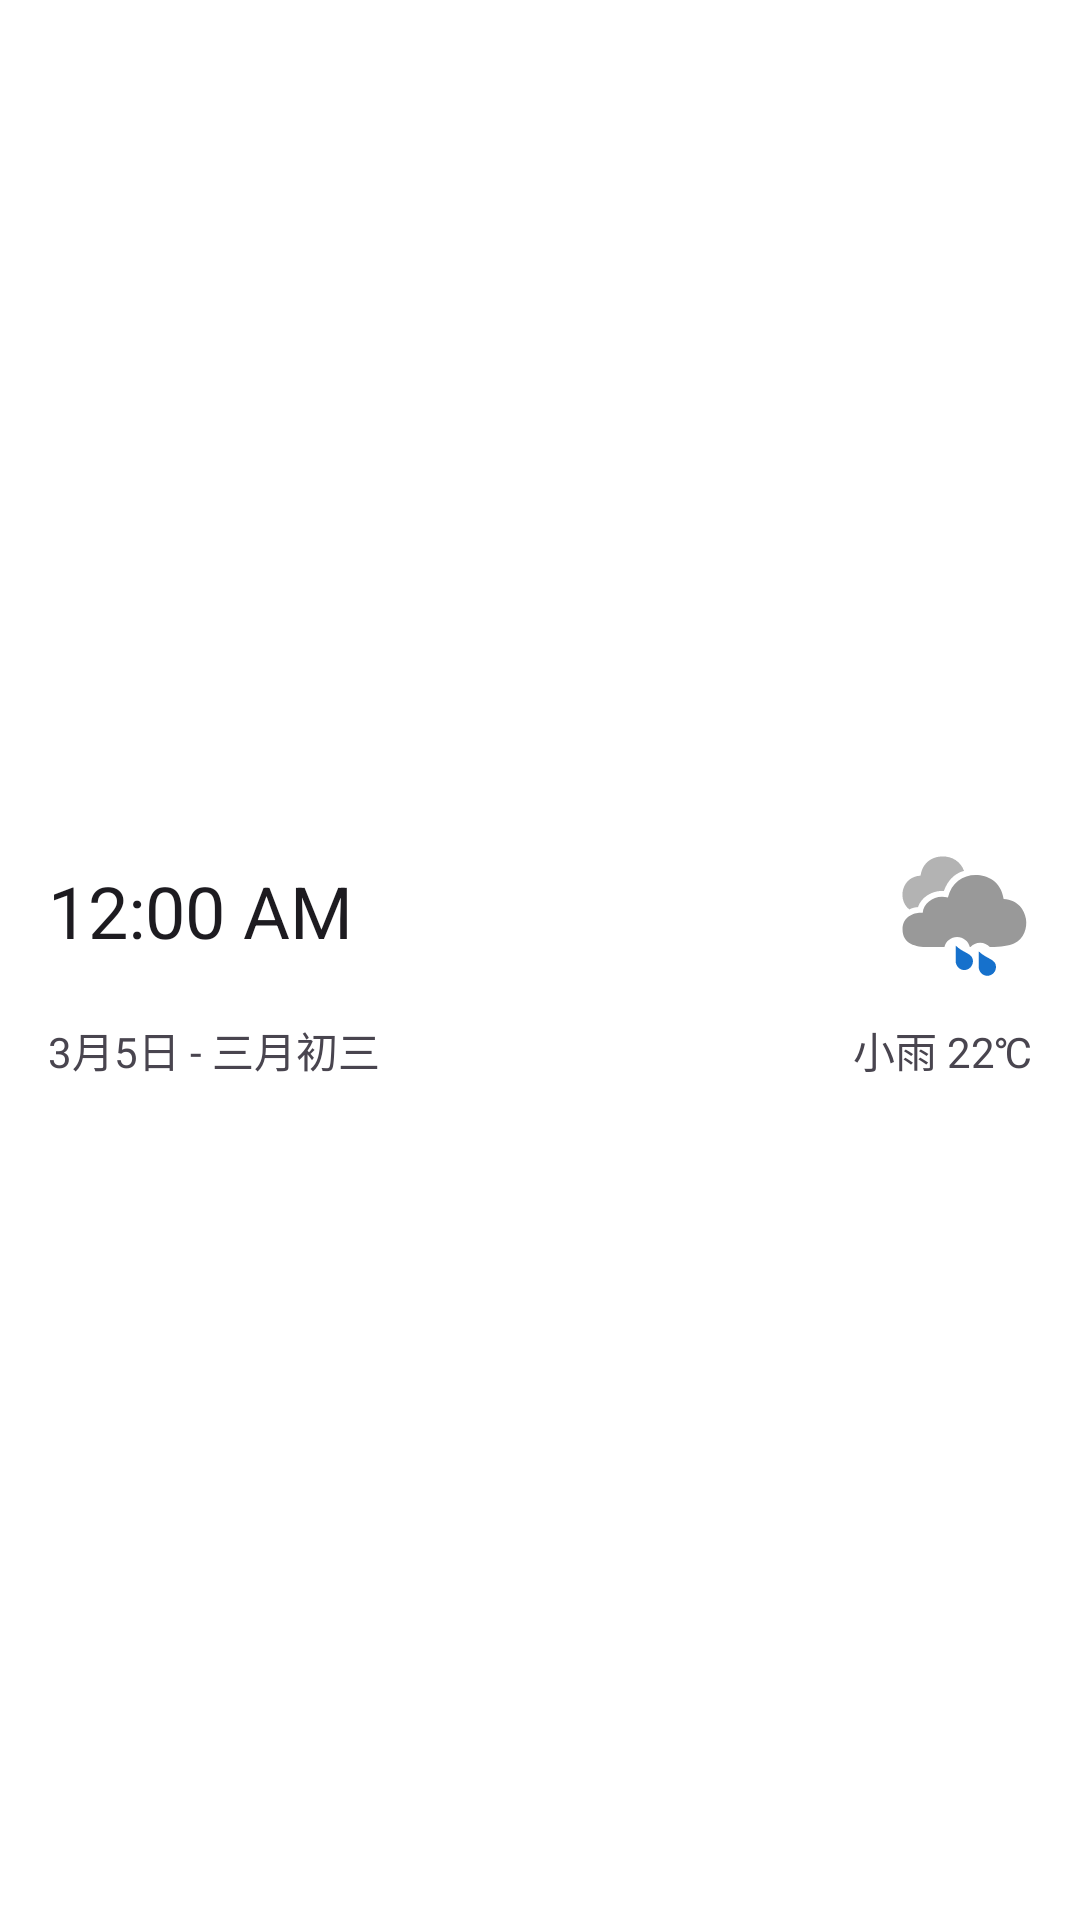

Screen size 1080×1920. Icon name, then its box in pixels as (x1, y1, x2, y2):
rain: (902, 856, 1027, 976)
